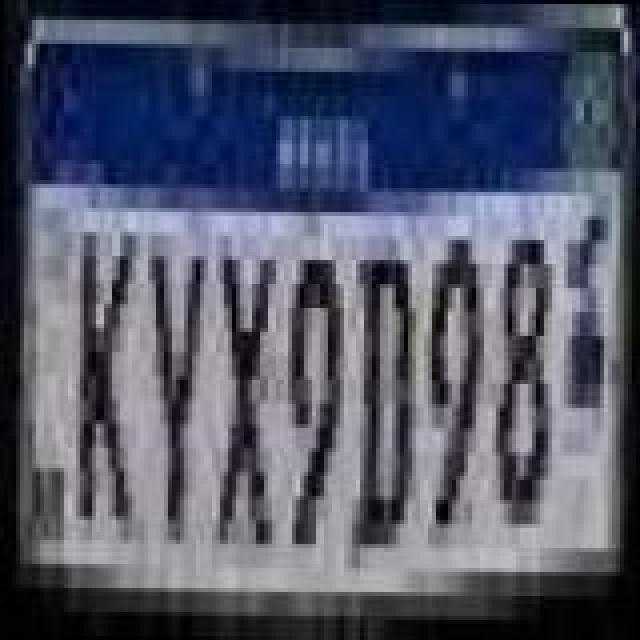8: (490, 228, 554, 532)
9: (422, 234, 486, 538), (284, 248, 344, 552)
D: (348, 248, 416, 556)
K: (74, 222, 138, 538)
X: (212, 238, 280, 550)
Y: (144, 238, 204, 542)
